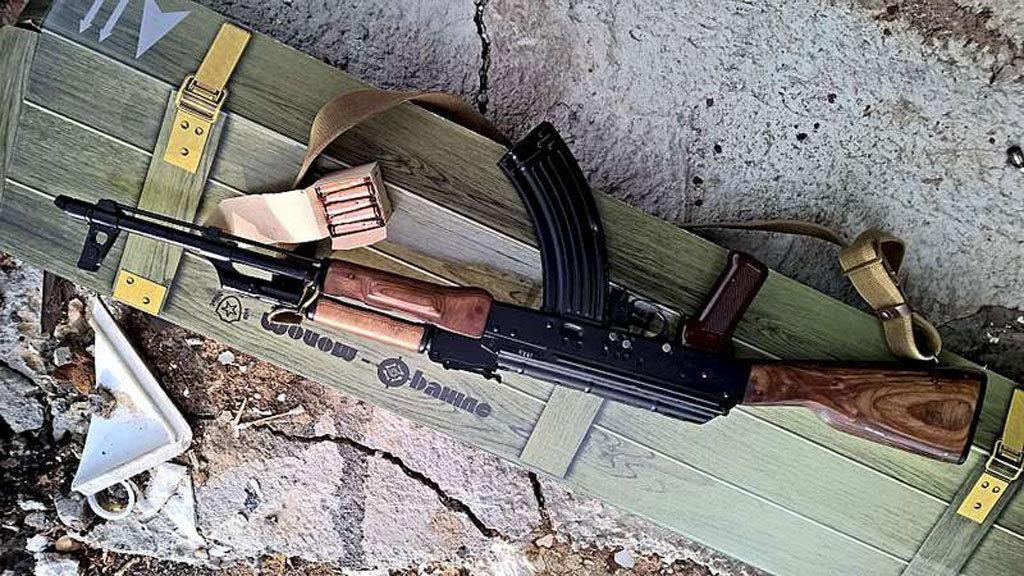larga: (54, 120, 988, 466)
